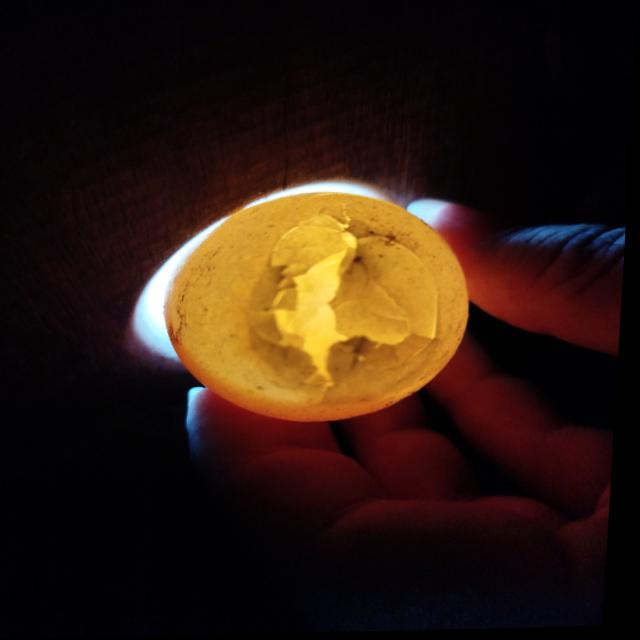Rachadura: (248, 207, 449, 408)
